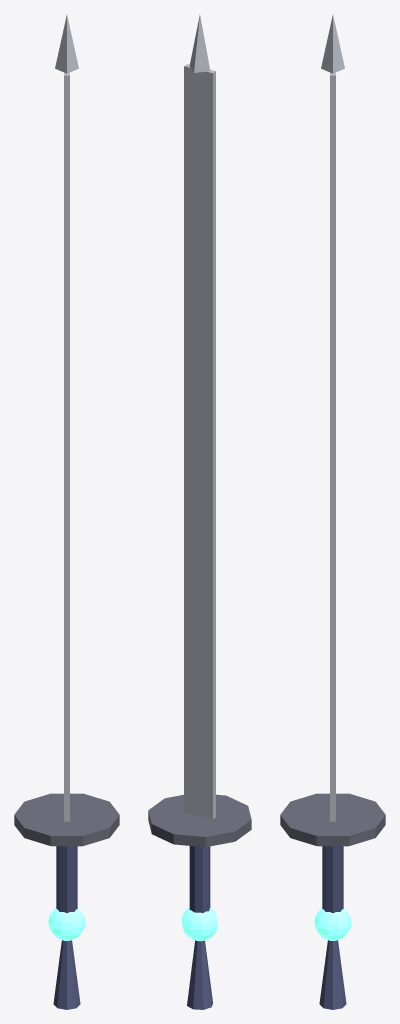
The model's file is xx_jian_3d.glb.
The picture shows the model from 3 angles, left to right: view 1: azimuth 90°, elevation 25°; view 2: azimuth 150°, elevation 25°; view 3: azimuth 270°, elevation 25°; orthographic projection.
Visible parts, largest first — view 1: jian_blade, jian_guard, jian_grip, jian_tassel, jian_pommel, jian_tip; view 2: jian_blade, jian_guard, jian_grip, jian_tassel, jian_pommel, jian_tip; view 3: jian_blade, jian_guard, jian_grip, jian_tassel, jian_pommel, jian_tip.
Boxes of the visible parts, left/top/right/bottom form: jian_blade: left=64, top=72, right=69, bottom=821; jian_guard: left=14, top=793, right=119, bottom=846; jian_grip: left=56, top=846, right=77, bottom=912; jian_tassel: left=53, top=940, right=80, bottom=1009; jian_pommel: left=48, top=907, right=85, bottom=940; jian_tip: left=55, top=15, right=78, bottom=73; jian_blade: left=184, top=64, right=215, bottom=819; jian_guard: left=148, top=794, right=251, bottom=847; jian_grip: left=189, top=846, right=210, bottom=913; jian_tassel: left=187, top=940, right=212, bottom=1009; jian_pommel: left=181, top=907, right=218, bottom=941; jian_tip: left=189, top=15, right=210, bottom=72; jian_blade: left=330, top=72, right=335, bottom=821; jian_guard: left=280, top=793, right=385, bottom=846; jian_grip: left=322, top=846, right=343, bottom=912; jian_tassel: left=319, top=940, right=346, bottom=1009; jian_pommel: left=314, top=907, right=351, bottom=940; jian_tip: left=321, top=15, right=344, bottom=73.
Bounding box in the file's own units: 0.1331 × 1.45 × 0.14.
